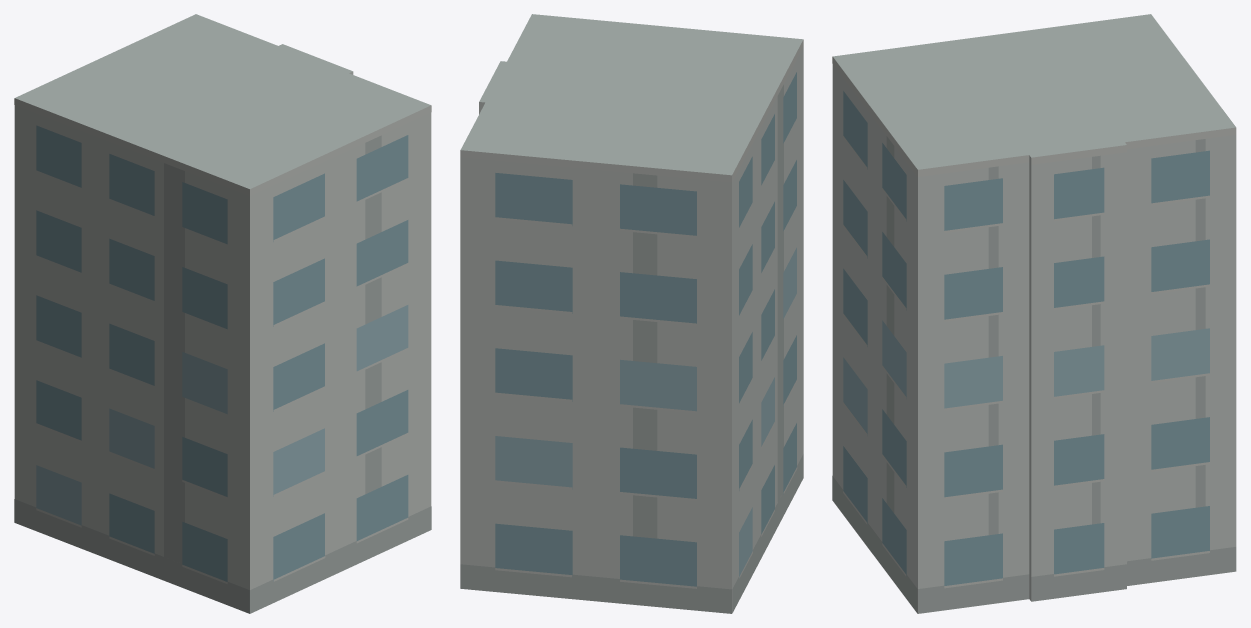
The model's file is survey-upis-32619675.glb.
3 views of the same model, side by side, from view 1: azimuth 30°, elevation 25°; view 2: azimuth 150°, elevation 25°; view 3: azimuth 270°, elevation 25° (orthographic). The views are drawn at different scales.
Visible parts, largest first — view 1: survey-upis-32619675.tmp; view 2: survey-upis-32619675.tmp; view 3: survey-upis-32619675.tmp.
Boxes of the visible parts, left/top/right/bottom form: survey-upis-32619675.tmp: left=14, top=14, right=431, bottom=613; survey-upis-32619675.tmp: left=460, top=14, right=803, bottom=613; survey-upis-32619675.tmp: left=832, top=14, right=1236, bottom=613.
Size of the model in its own units: 11.15 by 14.8 by 12.21.
